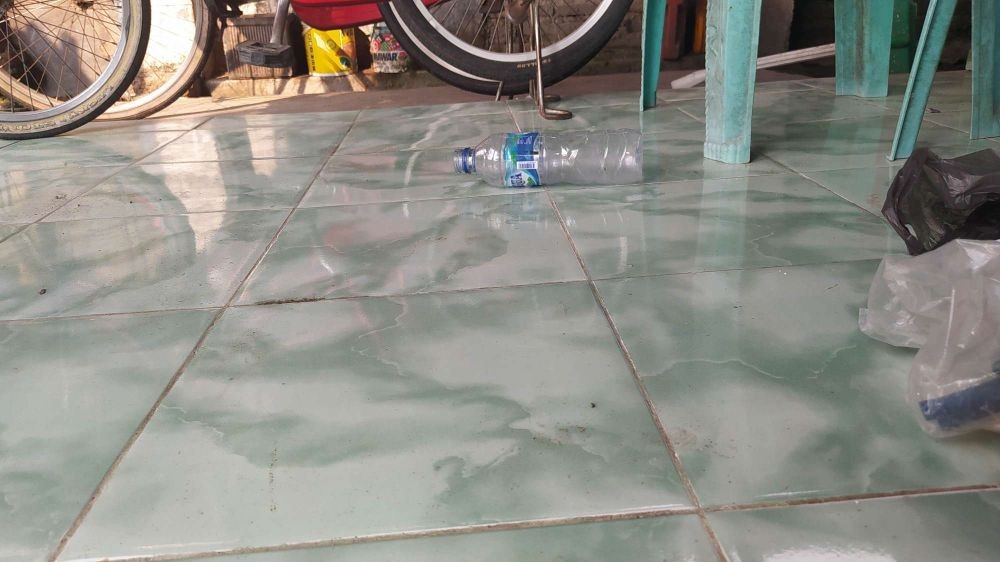botol: (440, 107, 656, 194)
